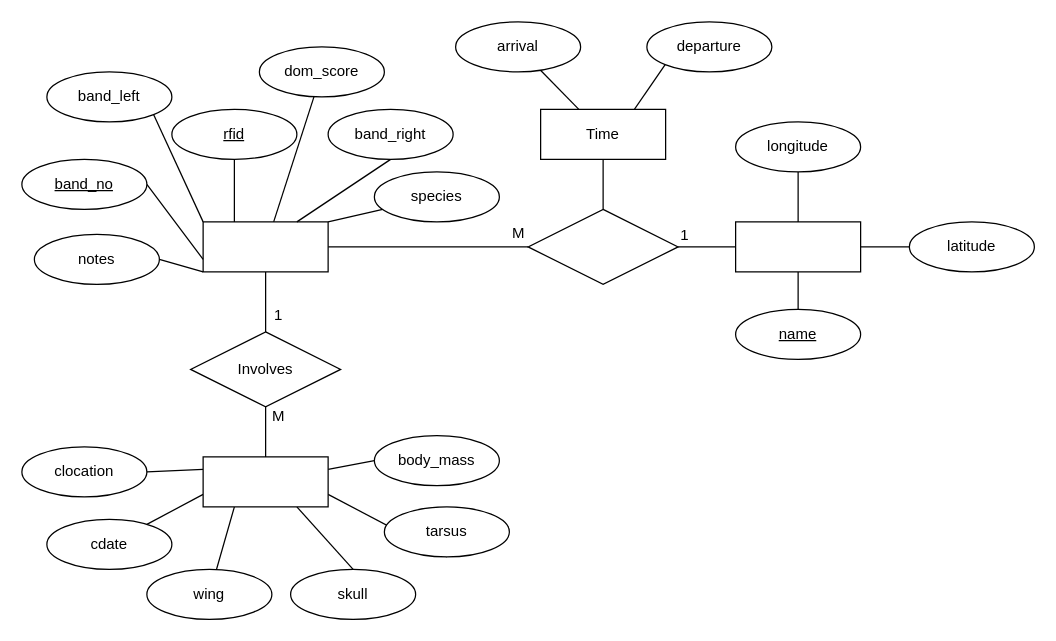
The diagram is 1056 pixels wide and 641 high, and some of its shapes have lost their labels. Here are the shapes that lost their labels. From the top down, the centre of each, then its label:
At (265,246): "Bird".
At (602,246): "Visits".
At (797,246): "Feeder".
At (265,481): "Captures".
